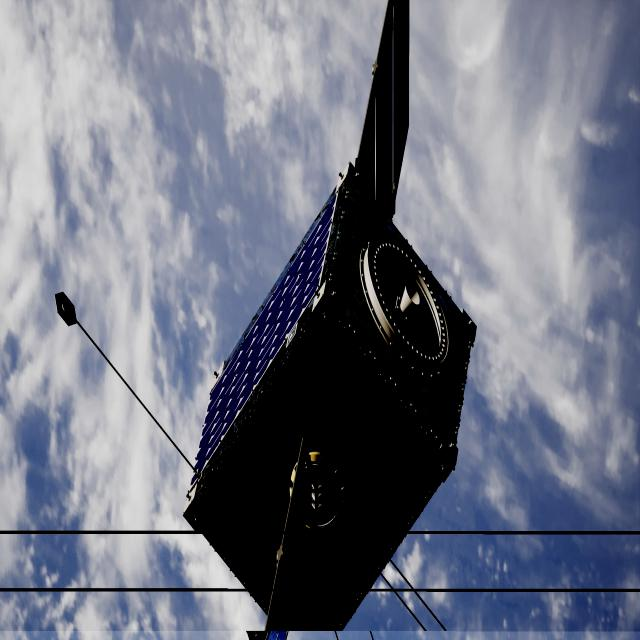satellite: (183, 0, 478, 640)
